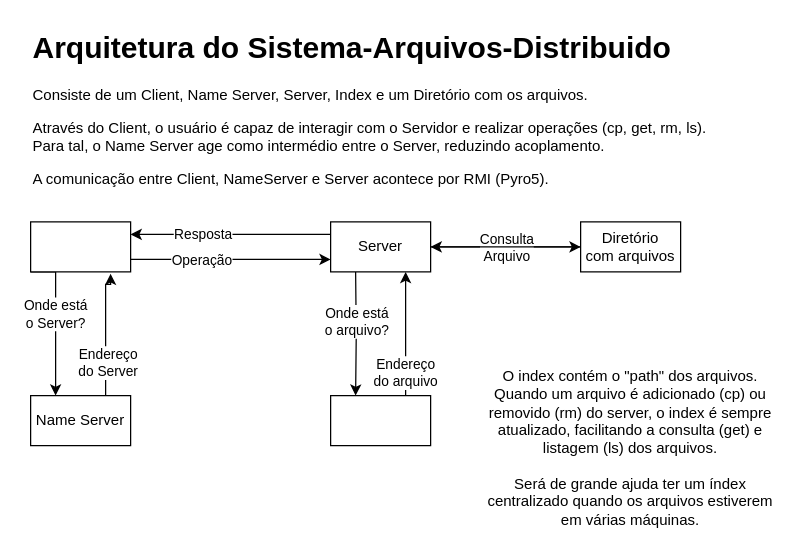
This 803x556 diagram has some shape labels left out. The shapes that lost their labels are listed below. From the top down, each one's centre as x and y in pixels, then its label:
point (80, 246): Client
point (380, 420): Index
